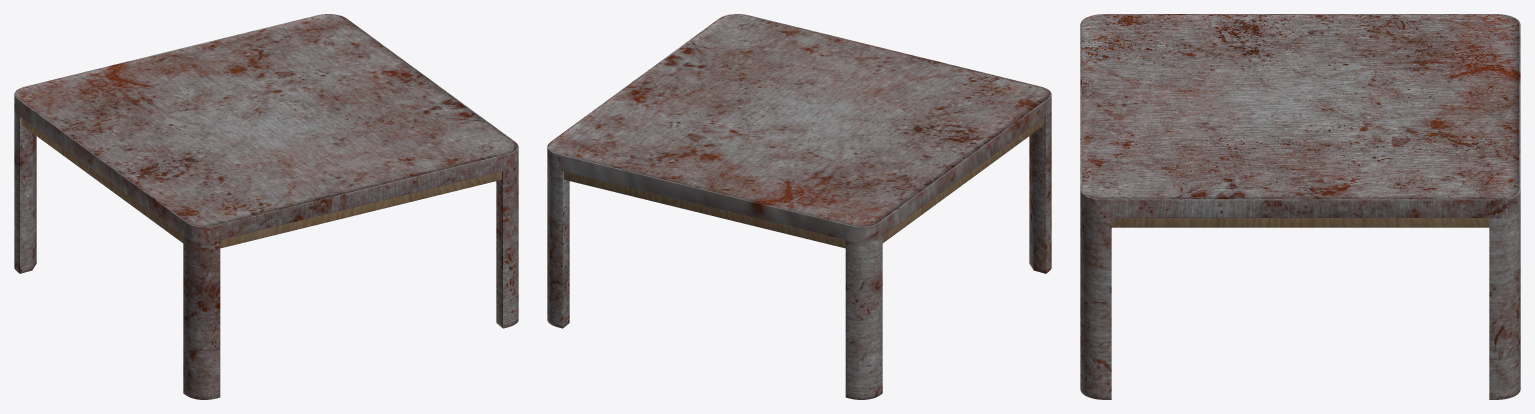
The model's file is mesa_para_unity.fbx.
3 views of the same model, side by side, from view 1: azimuth 30°, elevation 25°; view 2: azimuth 150°, elevation 25°; view 3: azimuth 270°, elevation 25° (orthographic). The views are drawn at different scales.
Visible parts, largest first — view 1: Cube.001; view 2: Cube.001; view 3: Cube.001.
Part boxes in pixels (<box>): Cube.001: <box>14,14,518,399</box>; Cube.001: <box>547,14,1051,399</box>; Cube.001: <box>1080,14,1520,399</box>.
Size of the model in its own units: 70 by 35.1 by 70.
